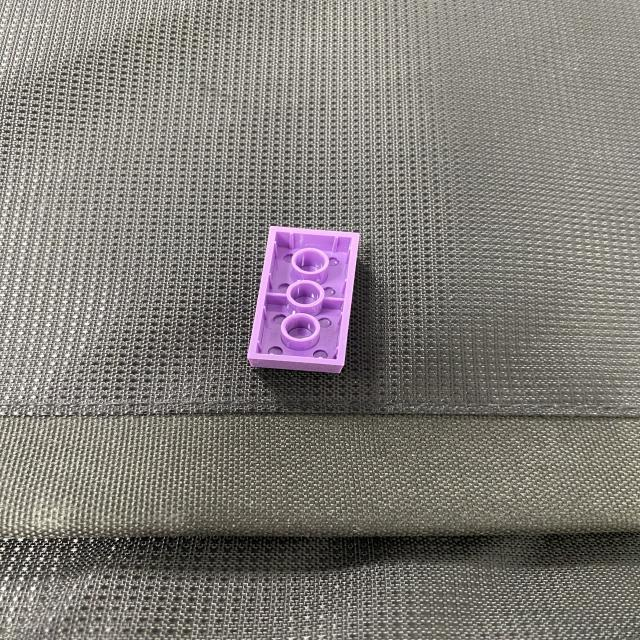C4x2x1: (246, 225, 362, 372)
